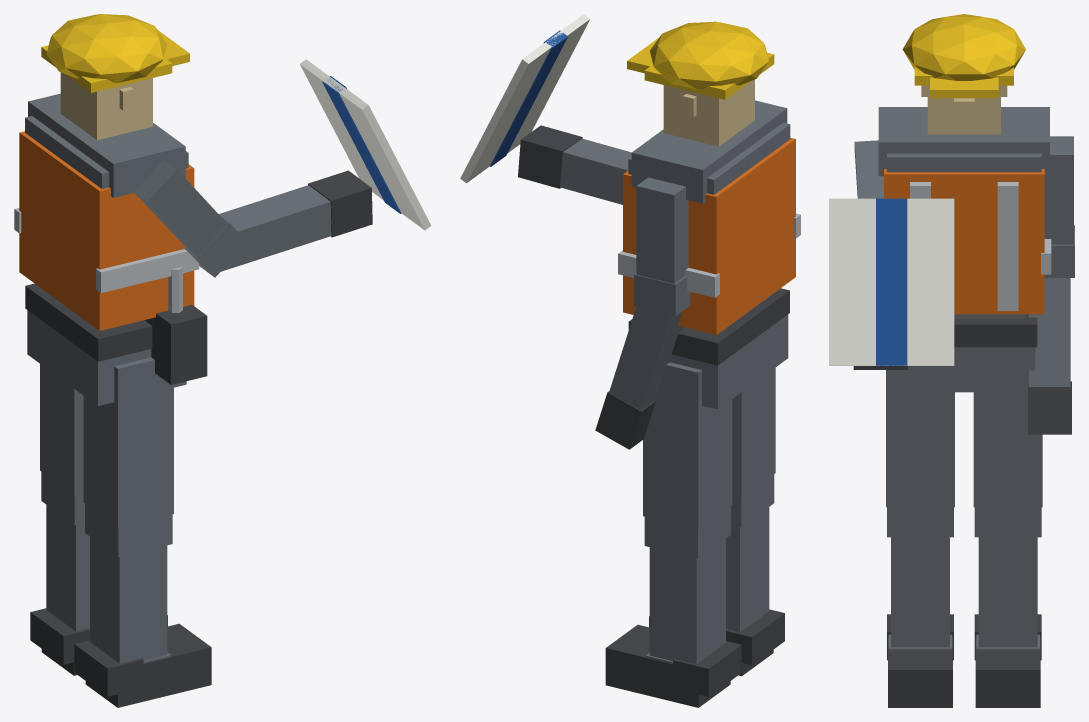
The model's file is worker_plan.glb.
3 renders of one model, left to right at view 1: azimuth 30°, elevation 25°; view 2: azimuth 150°, elevation 25°; view 3: azimuth 270°, elevation 25°, orthographic.
Parts seen in each view (by area): view 1: Worker_Body, Worker_LegR, Worker_ArmR, Worker_LegL, Worker_Drawing; view 2: Worker_Body, Worker_LegL, Worker_ArmL, Worker_LegR, Worker_Drawing, Worker_ArmR; view 3: Worker_Body, Worker_Drawing, Worker_LegR, Worker_LegL, Worker_ArmL, Worker_ArmR.
Boxes of the visible parts, x1=… form: Worker_Body: x1=14, y1=14, x2=207, y2=405; Worker_LegR: x1=74, y1=357, x2=211, y2=707; Worker_ArmR: x1=135, y1=160, x2=372, y2=277; Worker_LegL: x1=30, y1=364, x2=167, y2=675; Worker_Drawing: x1=300, y1=59, x2=431, y2=230; Worker_Body: x1=618, y1=21, x2=800, y2=409; Worker_LegL: x1=605, y1=362, x2=741, y2=707; Worker_ArmL: x1=595, y1=177, x2=690, y2=449; Worker_LegR: x1=649, y1=367, x2=784, y2=676; Worker_Drawing: x1=460, y1=14, x2=589, y2=183; Worker_ArmR: x1=518, y1=125, x2=631, y2=204; Worker_Body: x1=853, y1=14, x2=1051, y2=392; Worker_Drawing: x1=829, y1=198, x2=954, y2=365; Worker_LegR: x1=886, y1=370, x2=954, y2=707; Worker_LegL: x1=973, y1=392, x2=1042, y2=707; Worker_ArmL: x1=1028, y1=136, x2=1074, y2=434; Worker_ArmR: x1=854, y1=140, x2=883, y2=198.
Bounding box in the file's own units: 0.8558 × 1.72 × 0.5891.
